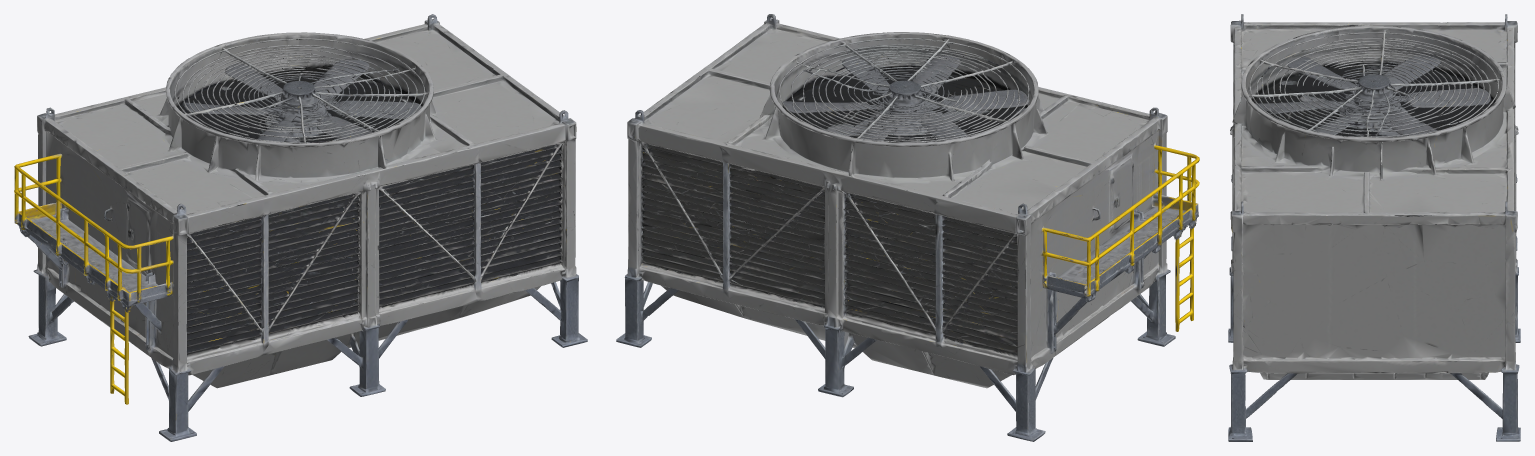
Rendered from M04-cooling-tower.glb.
3 renders of one model, left to right at view 1: azimuth 30°, elevation 25°; view 2: azimuth 150°, elevation 25°; view 3: azimuth 270°, elevation 25°, orthographic.
Bounding box in the file's own units: 8 × 4.3 × 4.46.
1 material, 1 textured.
